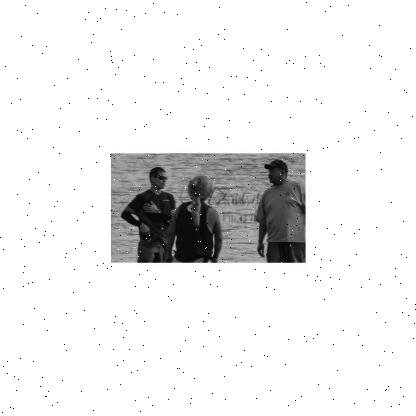gun: (128, 209, 166, 249)
